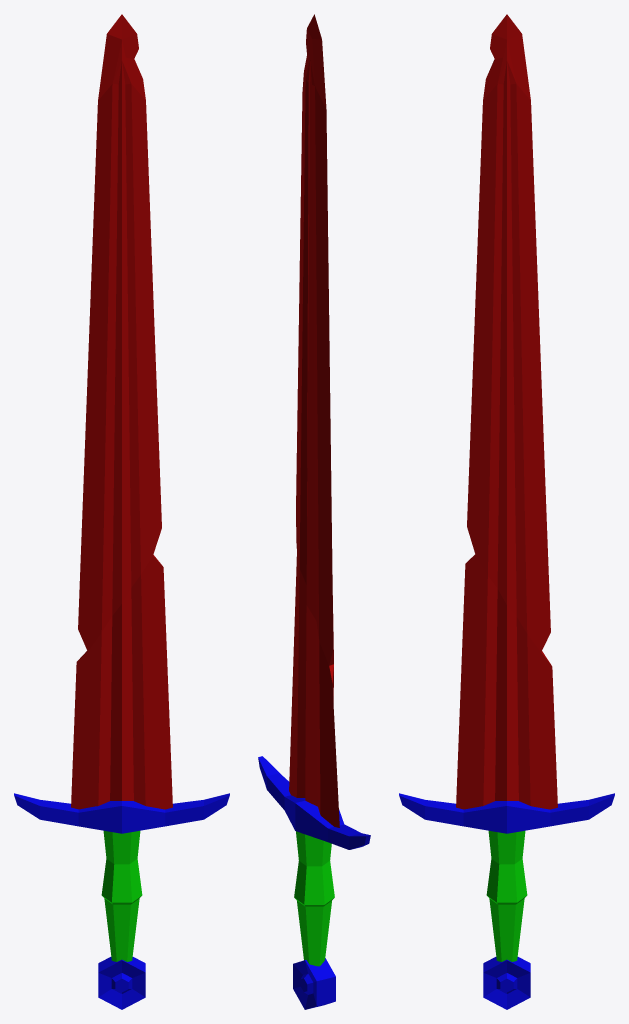
Rendered from Greatsword_Common_Soldier.fbx.
3 views of the same model, side by side, from view 1: azimuth 90°, elevation 25°; view 2: azimuth 210°, elevation 25°; view 3: azimuth 270°, elevation 25° (orthographic).
Visible parts, largest first — view 1: SM_Wep_Sword_03; view 2: SM_Wep_Sword_03; view 3: SM_Wep_Sword_03.
Boxes of the visible parts, box(x1,y1,x2,y2) form: SM_Wep_Sword_03: box(14, 14, 229, 1009); SM_Wep_Sword_03: box(258, 14, 370, 1009); SM_Wep_Sword_03: box(399, 14, 614, 1009).
Size of the model in its own units: 6.15 by 152 by 29.97.
